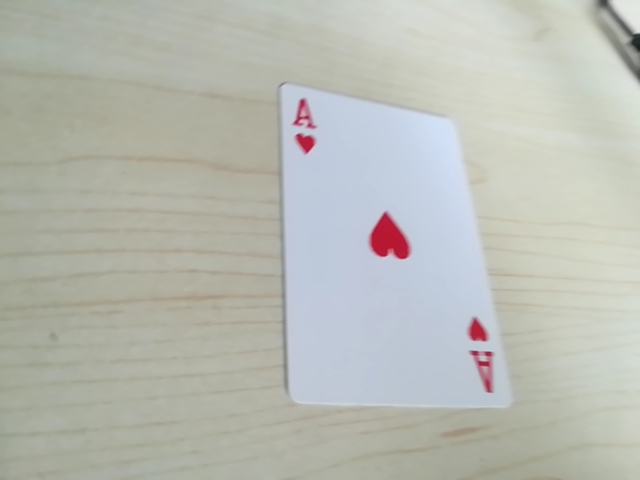hx a: (284, 89, 326, 159), (463, 315, 496, 391)
